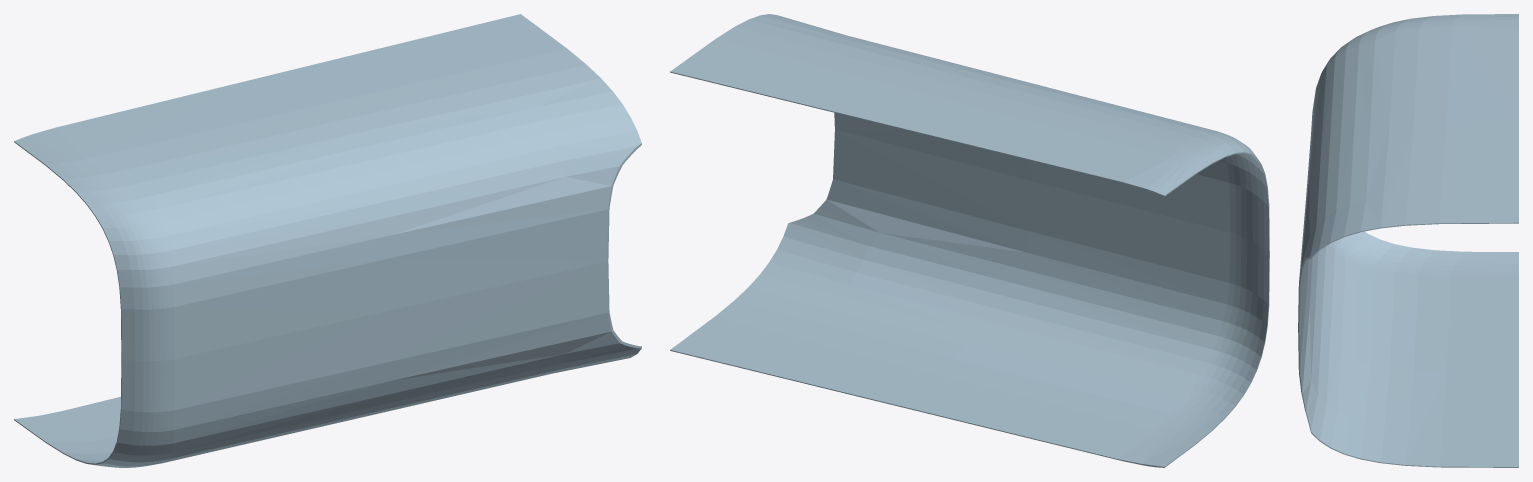
Rendered from CAN-F.glb.
3 renders of one model, left to right at view 1: azimuth 30°, elevation 25°; view 2: azimuth 150°, elevation 25°; view 3: azimuth 270°, elevation 25°, orthographic. The views are drawn at different scales.
Parts seen in each view (by area): view 1: geometry_0; view 2: geometry_0; view 3: geometry_0.
Part boxes in pixels (left/top/right/bottom): geometry_0: left=14, top=14, right=641, bottom=467; geometry_0: left=670, top=14, right=1269, bottom=467; geometry_0: left=1298, top=14, right=1518, bottom=467.
Size of the model in its own units: 1705 by 920 by 751.
